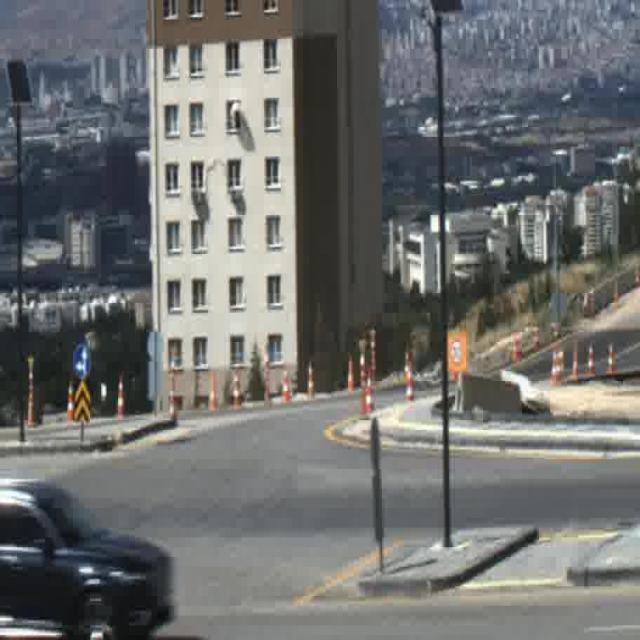Car: (0, 479, 174, 640)
